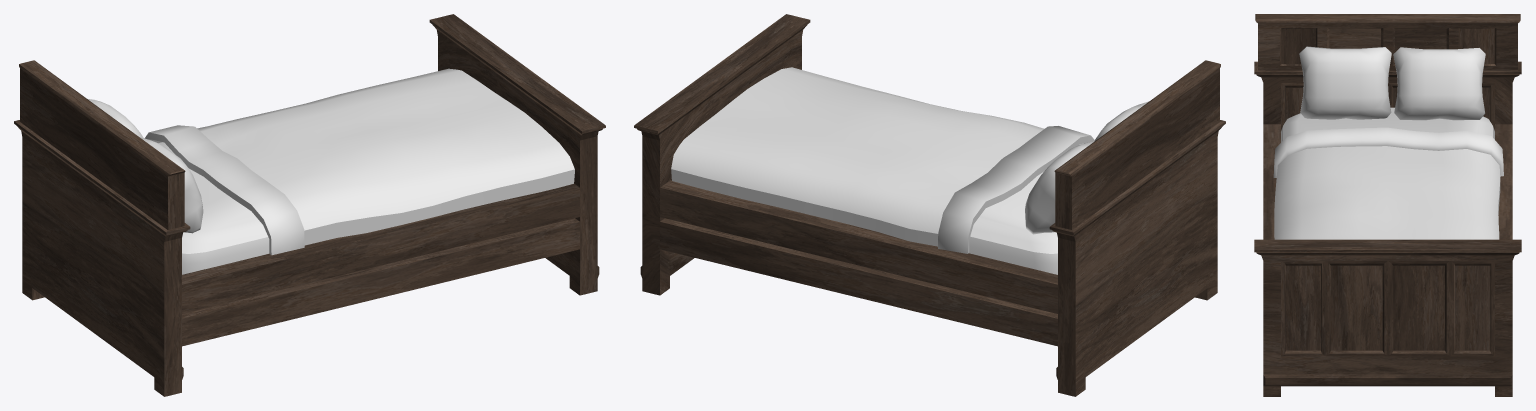
Rendered from Bed.fbx.
The picture shows the model from 3 angles, left to right: view 1: azimuth 30°, elevation 25°; view 2: azimuth 150°, elevation 25°; view 3: azimuth 270°, elevation 25°; orthographic projection. The views are drawn at different scales.
Parts seen in each view (by area): view 1: Bedframe, Blanket, Matress, Pillow2; view 2: Bedframe, Blanket, Matress, Pillow1; view 3: Bedframe, Blanket, Pillow2, Pillow1, Matress.
Part boxes in pixels (x1,y1,x2,y2): Bedframe: (14,14,605,396); Blanket: (144,68,574,255); Matress: (158,142,269,274); Pillow2: (140,137,203,233); Bedframe: (634,14,1225,396); Blanket: (671,67,1094,253); Matress: (968,143,1083,274); Pillow1: (1025,141,1093,234); Bedframe: (1254,14,1521,396); Blanket: (1273,127,1503,239); Pillow2: (1299,46,1391,119); Pillow1: (1393,47,1485,120); Matress: (1281,107,1494,142).
Bounding box in the file's own units: 250 × 123 × 150.
